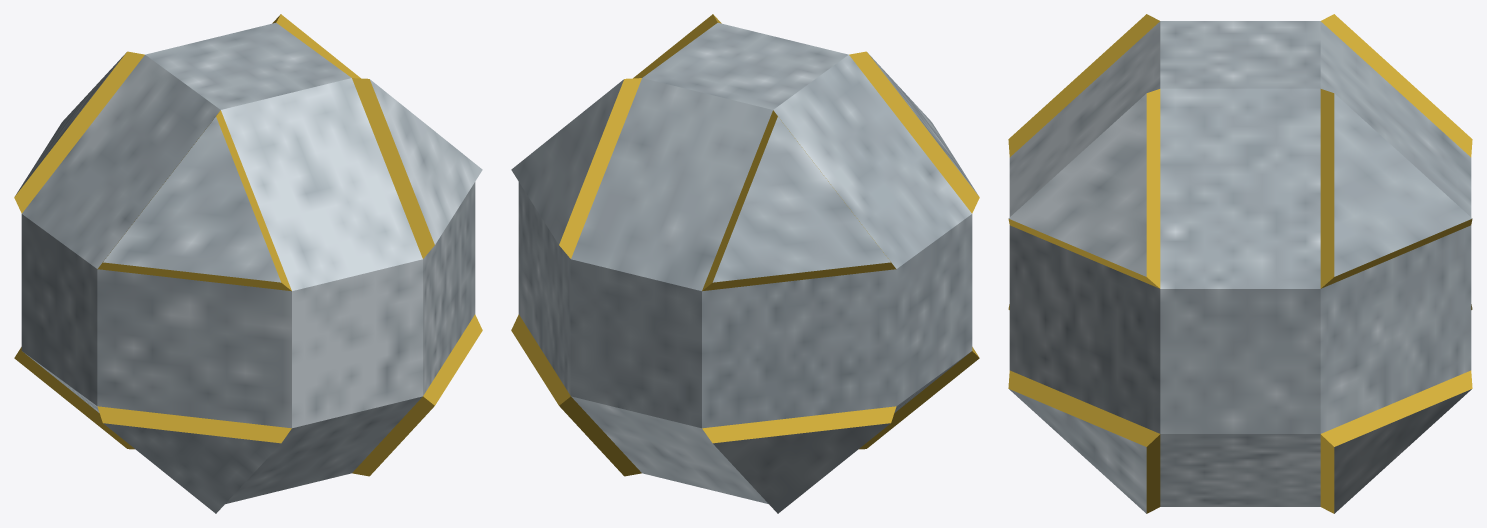
The model's file is Prism.fbx.
3 renders of one model, left to right at view 1: azimuth 30°, elevation 25°; view 2: azimuth 150°, elevation 25°; view 3: azimuth 270°, elevation 25°, orthographic. The views are drawn at different scales.
Visible parts, largest first — view 1: Prism; view 2: Prism; view 3: Prism.
Boxes of the visible parts, x1=… form: Prism: x1=14, y1=14, x2=482, y2=513; Prism: x1=511, y1=14, x2=979, y2=513; Prism: x1=1008, y1=14, x2=1472, y2=513.
Size of the model in its own units: 0.4527 by 0.4527 by 0.4527.
